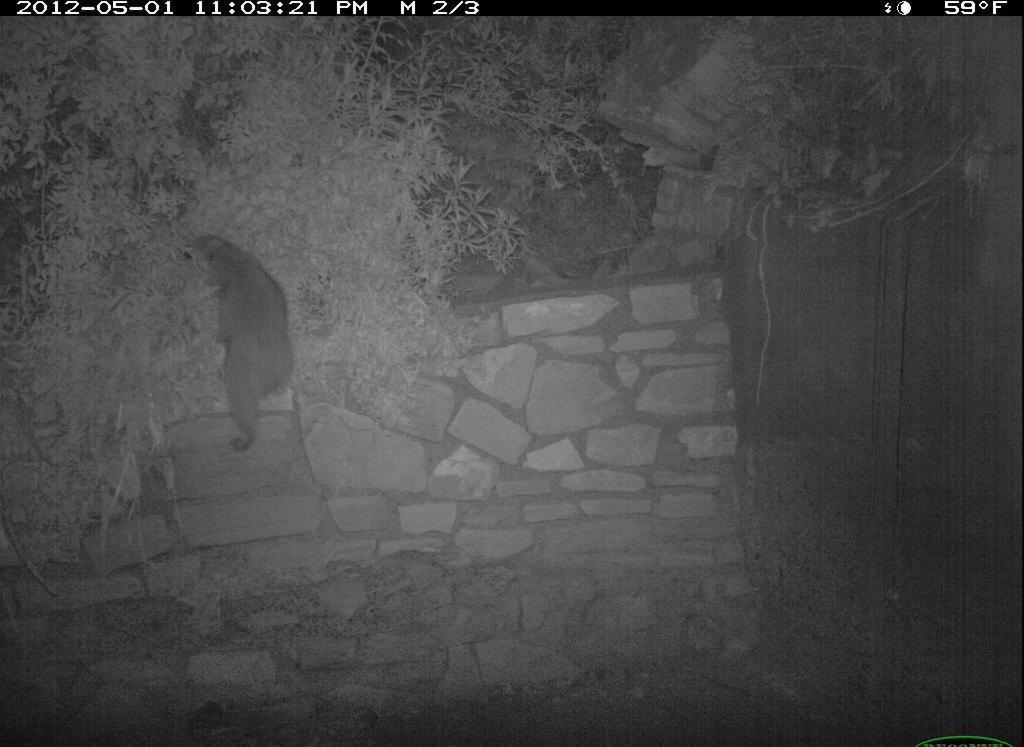raccoon: (187, 231, 305, 461)
